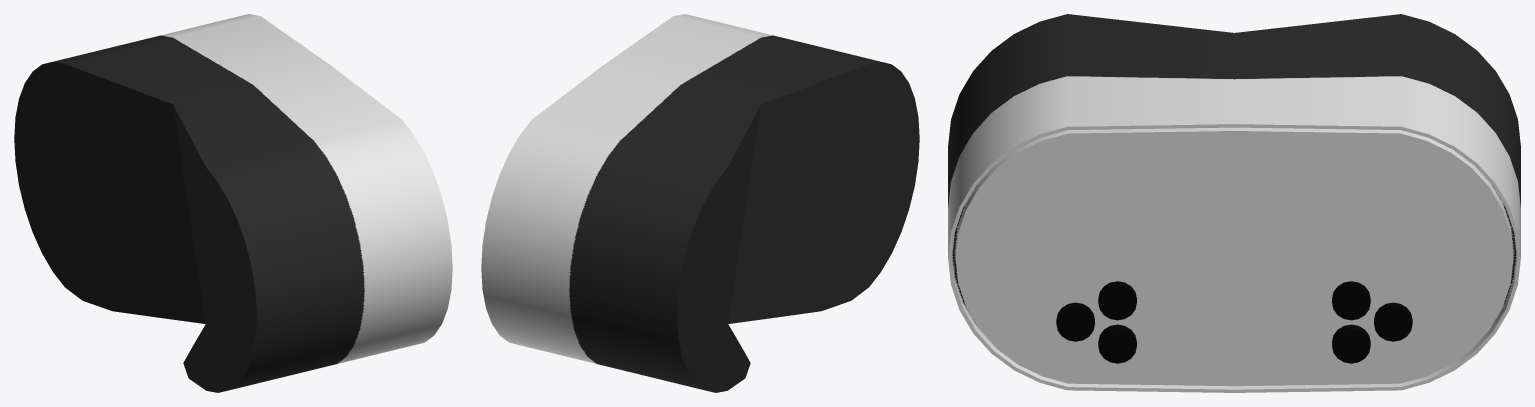
The model's file is bouken3s.fbx.
The picture shows the model from 3 angles, left to right: view 1: azimuth 30°, elevation 25°; view 2: azimuth 150°, elevation 25°; view 3: azimuth 270°, elevation 25°; orthographic projection. The views are drawn at different scales.
Parts seen in each view (by area): view 1: hmd_base; view 2: hmd_base; view 3: hmd_base, camera1, camera2, camera3.
Boxes of the visible parts, x1,y1,x2,y2 form: hmd_base: [14, 14, 452, 392]; hmd_base: [481, 14, 919, 392]; hmd_base: [948, 14, 1520, 392]; camera1: [1098, 281, 1370, 320]; camera2: [1098, 324, 1370, 363]; camera3: [1056, 302, 1412, 341].
Bounding box in the file's own units: 0.153 × 0.0739 × 0.0792.
